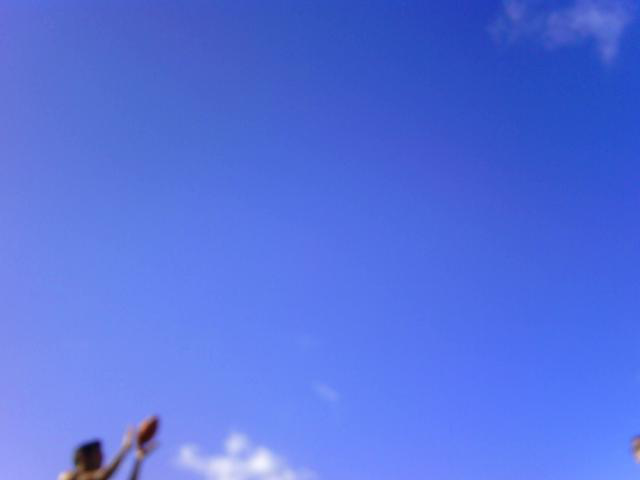football: (135, 415, 158, 446)
